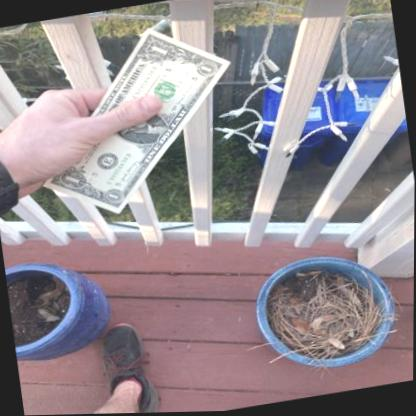one-front: (43, 29, 233, 215)
